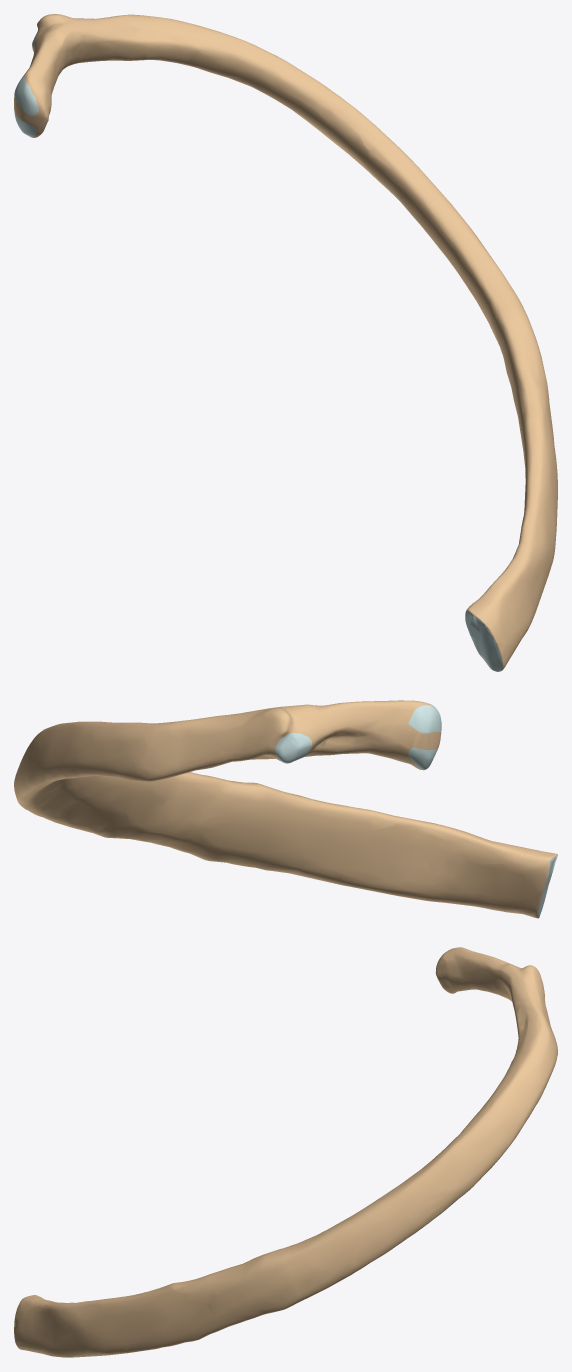
The model's file is 4th_rib.l_Generated_Mesh_From_X3D.860.glb.
3 renders of one model, top to bottom at view 1: azimuth 30°, elevation 25°; view 2: azimuth 150°, elevation 25°; view 3: azimuth 270°, elevation 25°, orthographic. The views are drawn at different scales.
Visible parts, largest first — view 1: 4th_rib.l_Generated_Mesh_From_X3D.860; view 2: 4th_rib.l_Generated_Mesh_From_X3D.860; view 3: 4th_rib.l_Generated_Mesh_From_X3D.860.
Boxes of the visible parts, box(x1,y1,x2,y2) form: 4th_rib.l_Generated_Mesh_From_X3D.860: box(14, 14, 557, 671); 4th_rib.l_Generated_Mesh_From_X3D.860: box(14, 700, 557, 918); 4th_rib.l_Generated_Mesh_From_X3D.860: box(14, 947, 557, 1357).
Bounding box in the file's own units: 0.1096 × 0.1171 × 0.1698.
